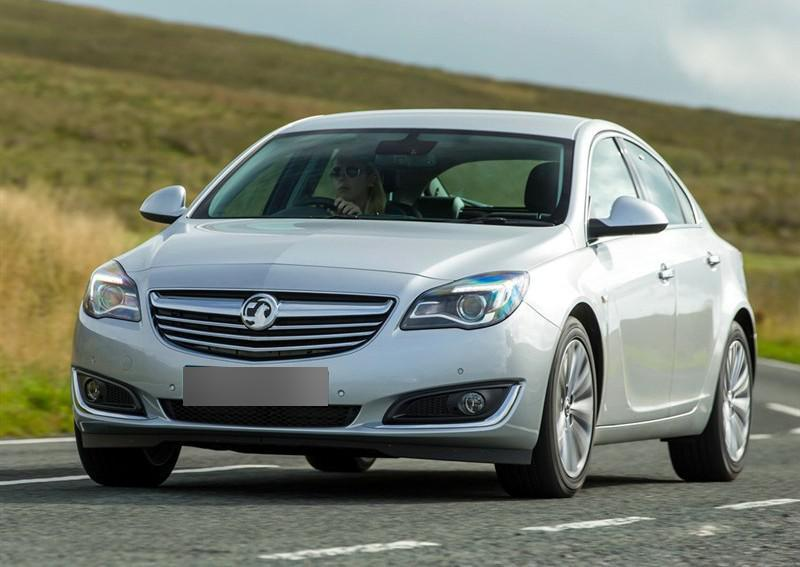Wagon: (70, 107, 756, 499)
